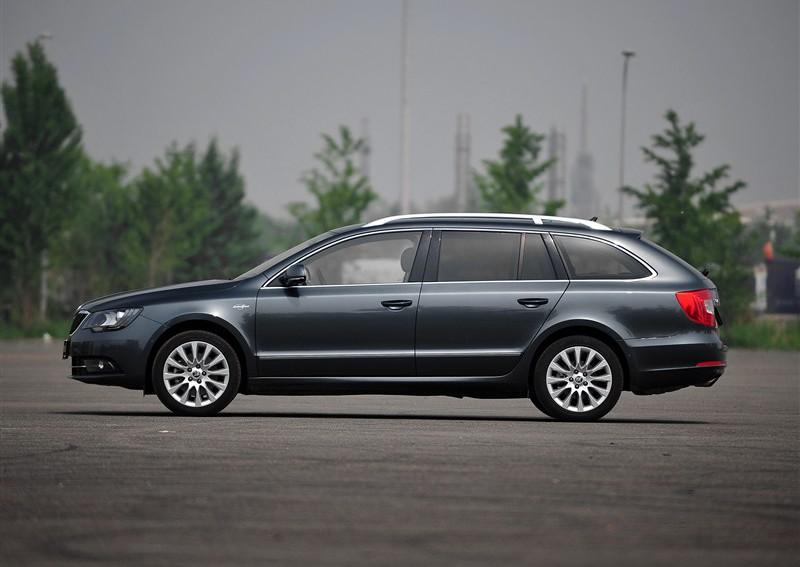Wagon: (63, 214, 726, 422)
